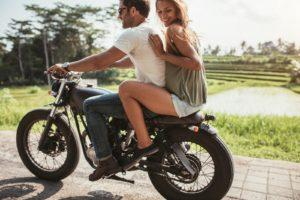nohelmet: (105, 0, 151, 30), (151, 0, 189, 30)
